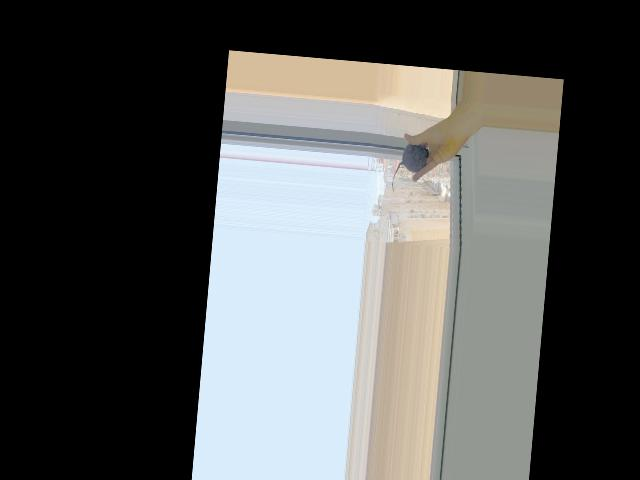beet: (391, 143, 429, 196)
